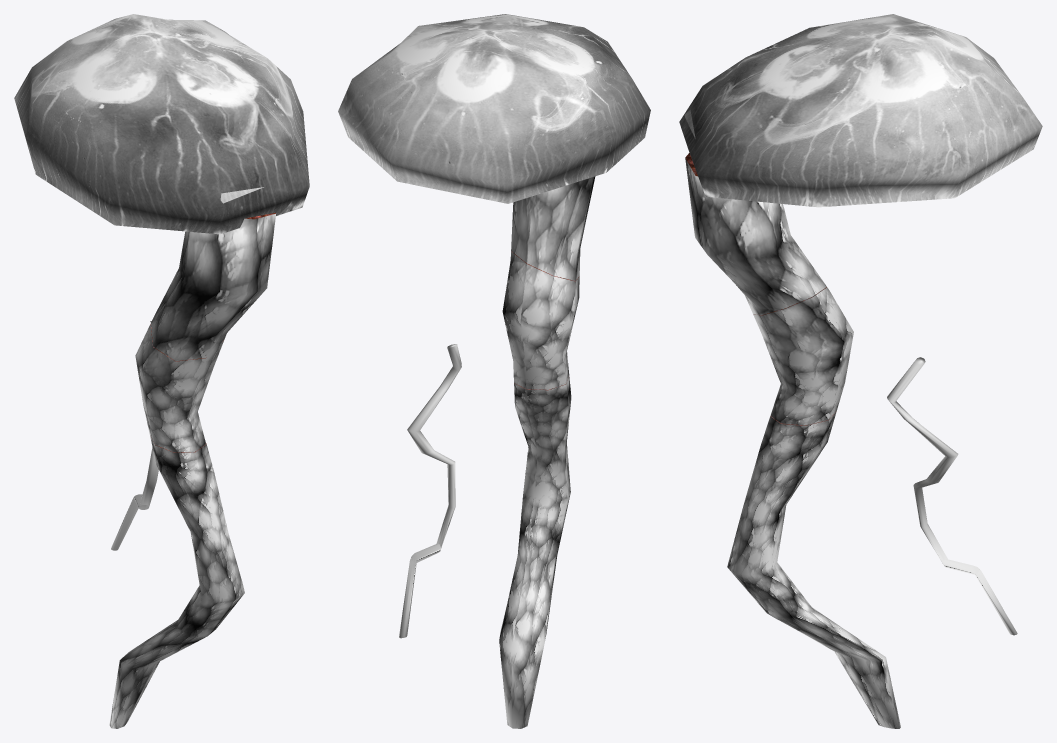
File: Jelly Ragdoll.fbx
3 views of the same model, side by side, from view 1: azimuth 30°, elevation 25°; view 2: azimuth 150°, elevation 25°; view 3: azimuth 270°, elevation 25° (orthographic). The views are drawn at different scales.
Visible parts, largest first — view 1: Retopo_Jellyfish Head.001, Leg 1.001_cell.002, Leg 1.001_cell, Leg 1.001_cell.001, Tail 1.001; view 2: Retopo_Jellyfish Head.001, Leg 1.001_cell.002, Leg 1.001_cell.001, Leg 1.001_cell, Tail 1.001; view 3: Retopo_Jellyfish Head.001, Leg 1.001_cell.002, Leg 1.001_cell, Leg 1.001_cell.001, Tail 1.001.
Part boxes in pixels (x1,y1,x2,y2): Retopo_Jellyfish Head.001: [14, 14, 309, 234]; Leg 1.001_cell.002: [109, 435, 244, 728]; Leg 1.001_cell: [151, 212, 275, 361]; Leg 1.001_cell.001: [135, 324, 223, 452]; Tail 1.001: [111, 321, 158, 550]; Retopo_Jellyfish Head.001: [338, 14, 650, 203]; Leg 1.001_cell.002: [499, 376, 571, 728]; Leg 1.001_cell.001: [502, 251, 579, 389]; Leg 1.001_cell: [511, 176, 595, 280]; Tail 1.001: [399, 344, 461, 638]; Retopo_Jellyfish Head.001: [679, 14, 1042, 207]; Leg 1.001_cell.002: [727, 411, 900, 728]; Leg 1.001_cell: [685, 153, 826, 315]; Leg 1.001_cell.001: [753, 287, 853, 425]; Tail 1.001: [887, 357, 1017, 635].
Bounding box in the file's own units: 124 × 333 × 155.
